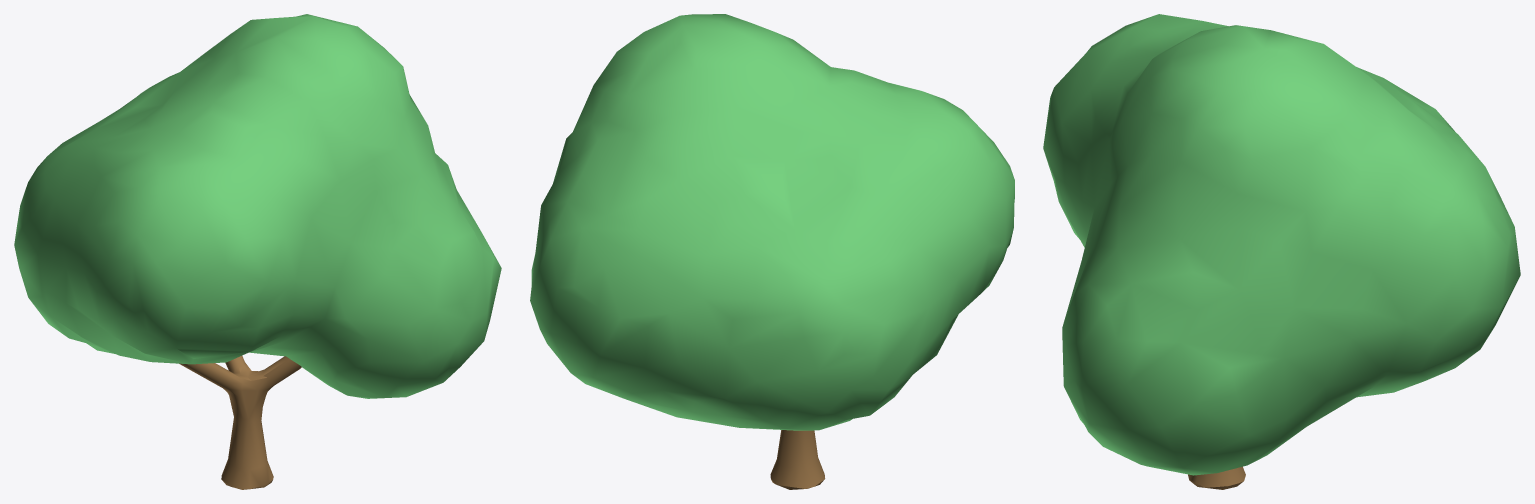
File: maple2.glb
The picture shows the model from 3 angles, left to right: view 1: azimuth 30°, elevation 25°; view 2: azimuth 150°, elevation 25°; view 3: azimuth 270°, elevation 25°; orthographic projection. The views are drawn at different scales.
Parts seen in each view (by area): view 1: maple_leaves_2, maple_trunk_2; view 2: maple_leaves_2, maple_trunk_2; view 3: maple_leaves_2, maple_trunk_2.
Boxes of the visible parts, x1,y1,x2,y2 form: maple_leaves_2: (14,14,501,398); maple_trunk_2: (179,356,301,489); maple_leaves_2: (530,14,1014,430); maple_trunk_2: (770,430,825,489); maple_leaves_2: (1043,14,1520,475); maple_trunk_2: (1188,466,1245,489).
Bounding box in the file's own units: 11.13 × 11.6 × 10.44.
